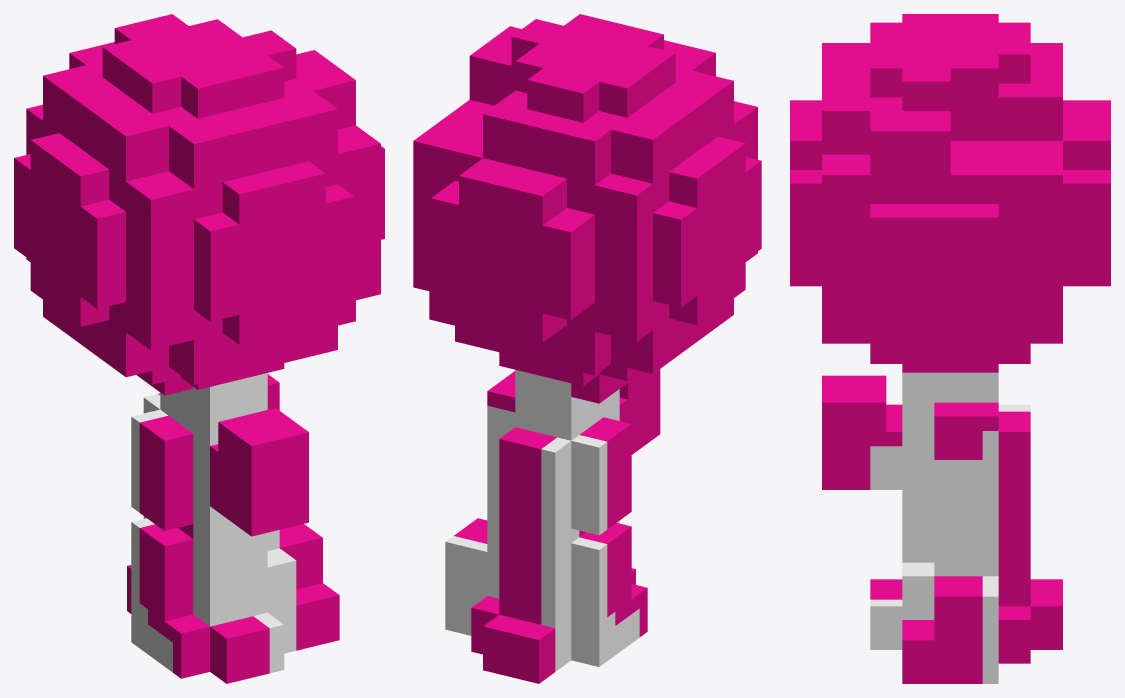
File: ZonaMundoPelea-12-ArbolGrande1.obj
3 views of the same model, side by side, from view 1: azimuth 30°, elevation 25°; view 2: azimuth 150°, elevation 25°; view 3: azimuth 270°, elevation 25° (orthographic). The views are drawn at different scales.
Parts seen in each view (by area): view 1: ArbolGrande1; view 2: ArbolGrande1; view 3: ArbolGrande1.
Part boxes in pixels (x1,y1,x2,y2): ArbolGrande1: (14, 14, 384, 683); ArbolGrande1: (413, 14, 761, 683); ArbolGrande1: (790, 14, 1110, 683).
Size of the model in its own units: 2 by 4 by 2.
1 material, 1 textured.
